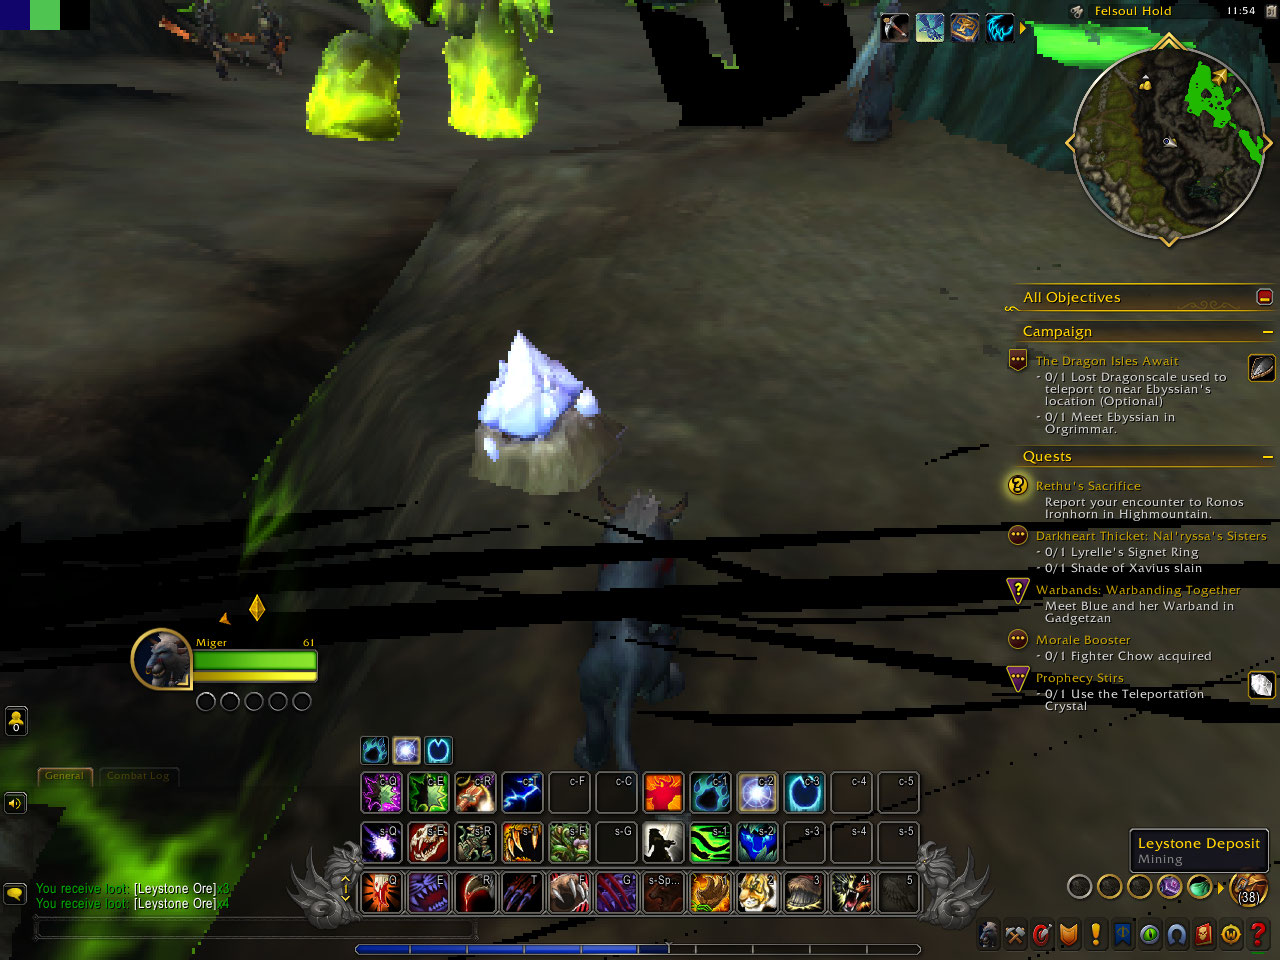ore: (464, 324, 624, 500)
